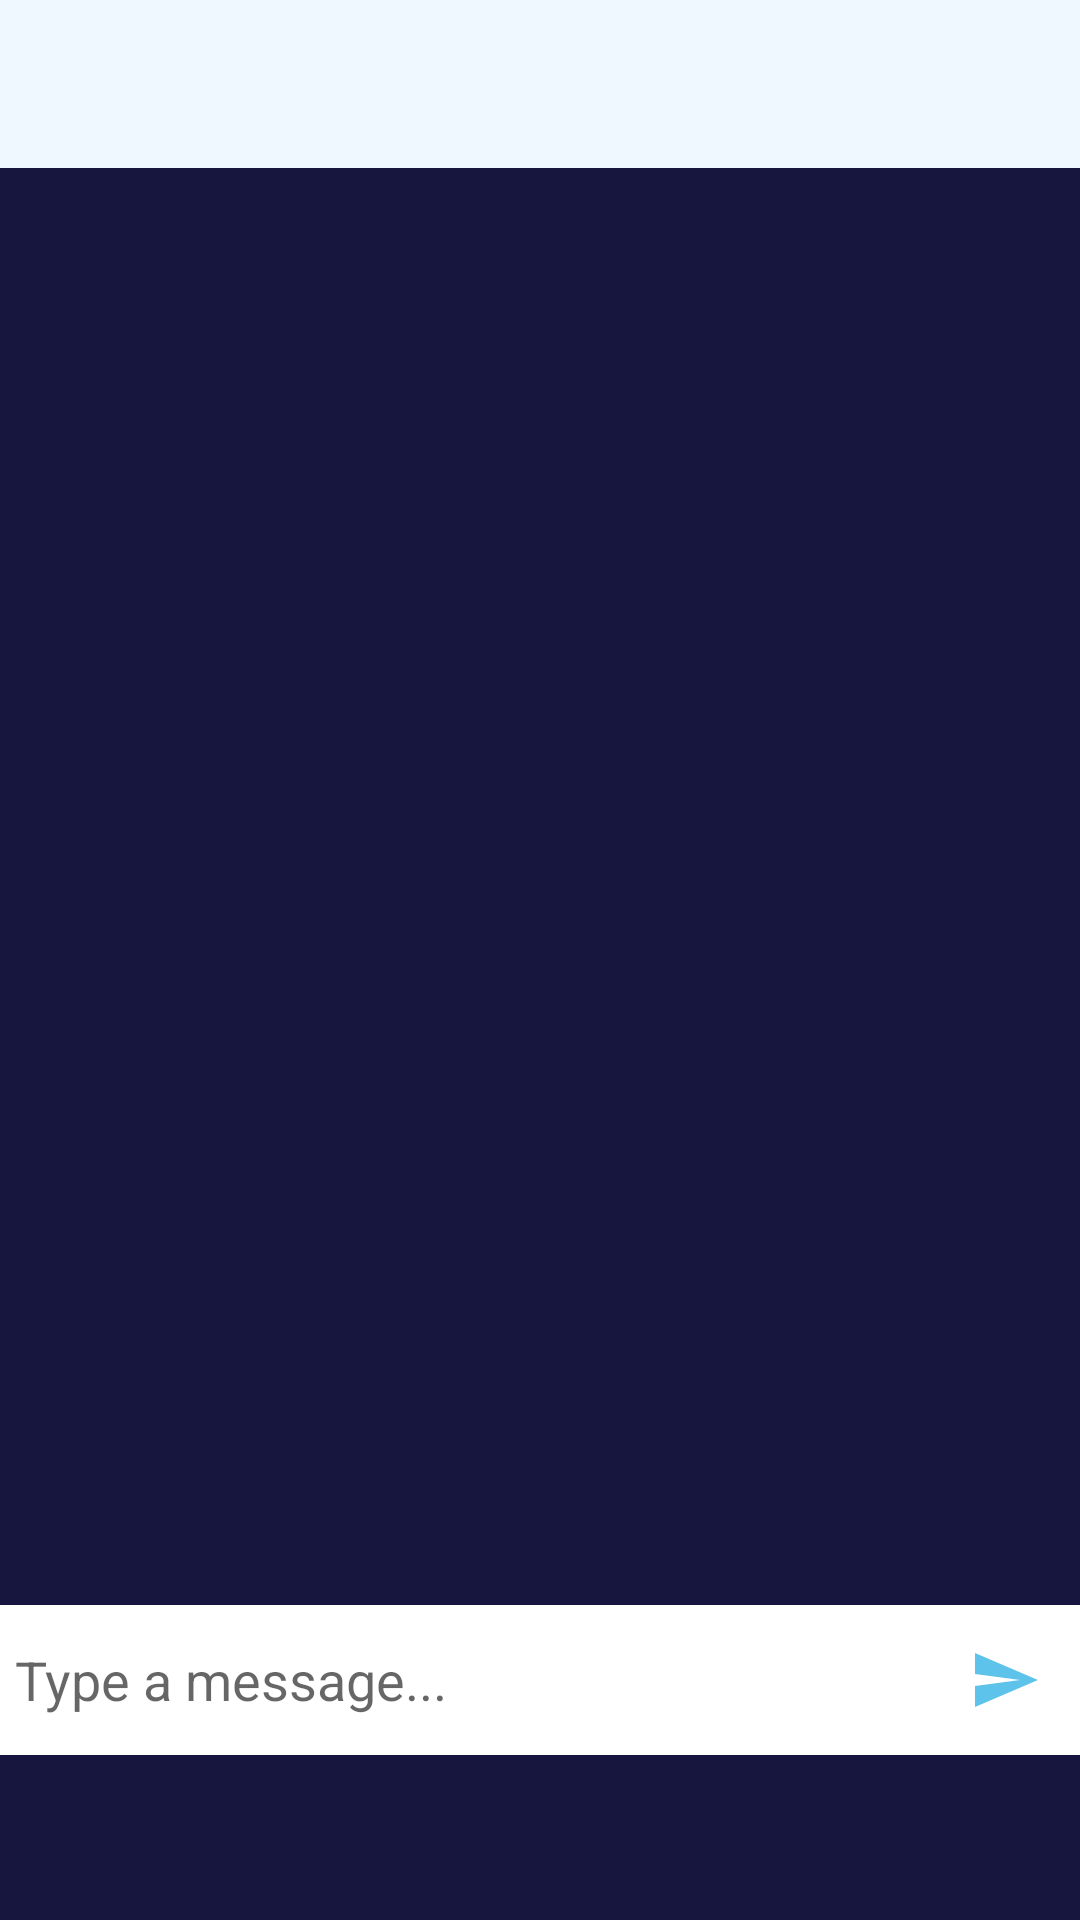

Icons on this 1080x1920 Android screen, each with its box as (x1, y1, x2, y2):
send: (975, 1653, 1038, 1707)
